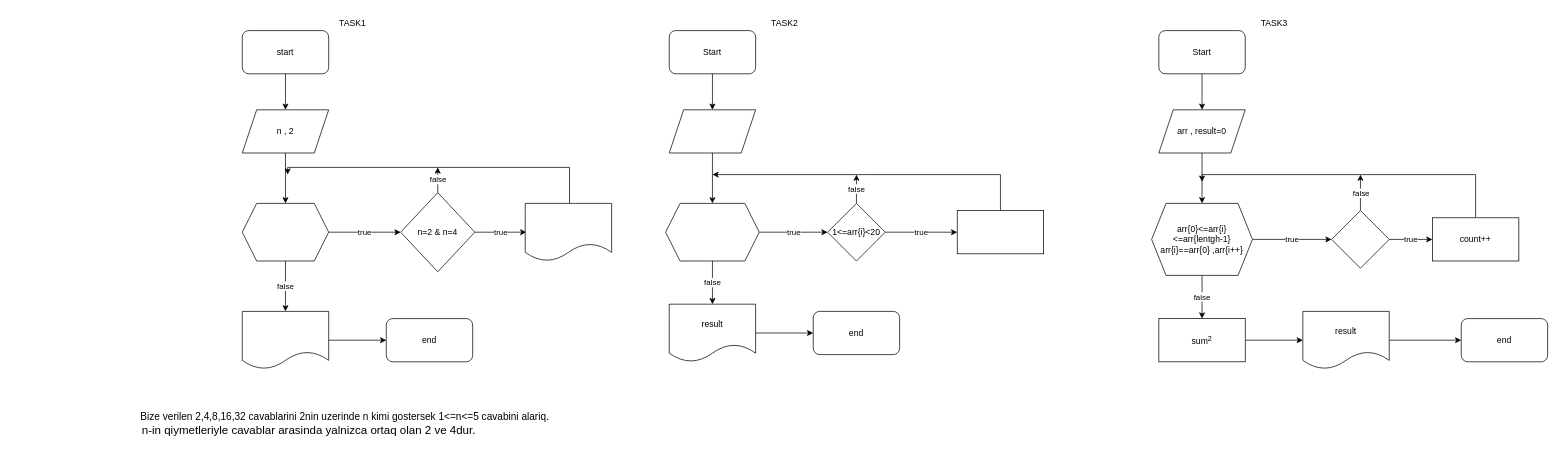
This 1560x453 diagram has some shape labels left out. Here are the shapes that lost their labels. From the top down, the box of each, then its label:
(669, 109, 756, 153): arr, result=0
(242, 203, 329, 261): 1<=n<=5 n=1 ,n++
(525, 203, 612, 261): olur
(665, 203, 759, 261): arr{0}<=arr{i}<=arr{4}, arr{i}==arr{0}, arr{i++}
(957, 210, 1044, 254): prod
(1331, 210, 1389, 268): arr{i}%2==(0)
(242, 311, 329, 369): olmur
